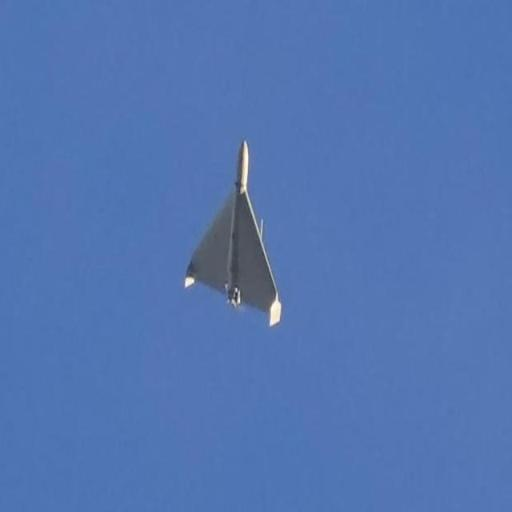uav: (181, 136, 286, 335)
